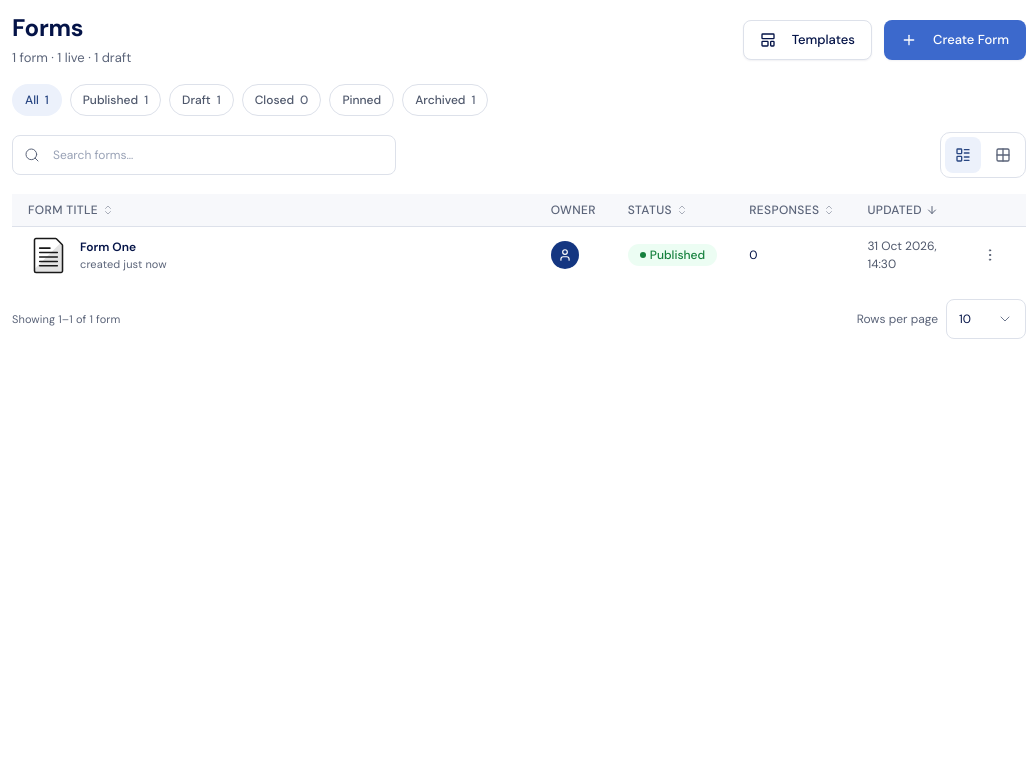
WorkspaceFormsPage — FormsPage rendered with workspace context › delete is gated by canDeleteForm(role) — owner only › role=owner: select column and row Delete action are present
Double-click the link "Form One" at (108, 247), box [80,238,136,256]
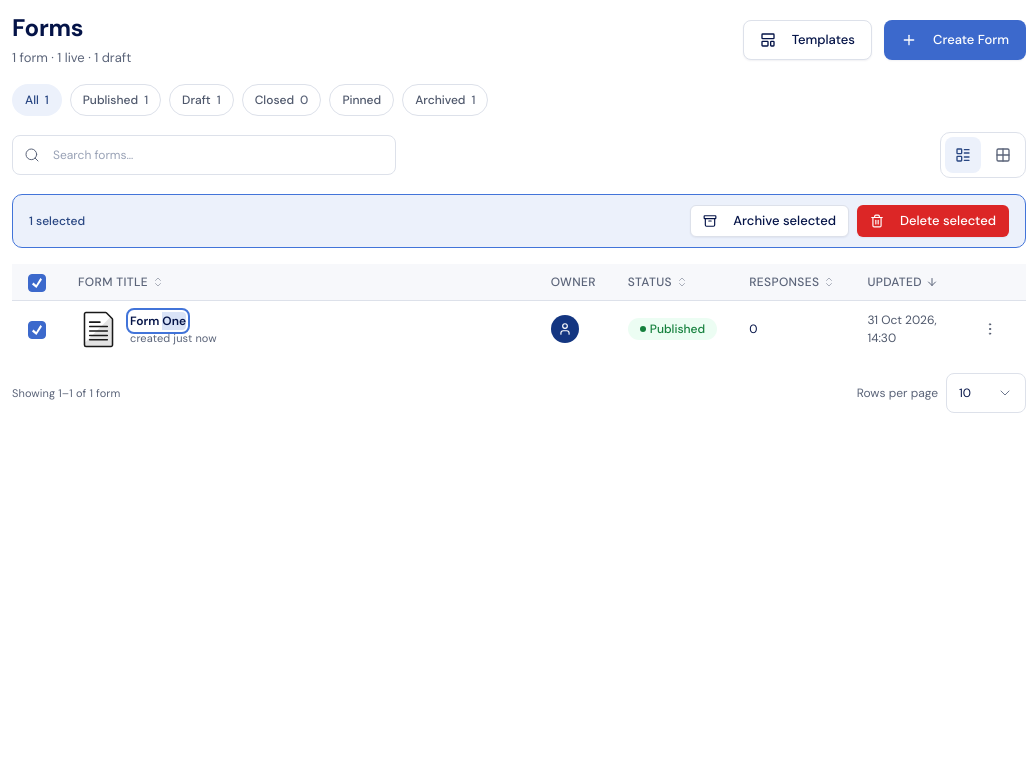
Result: the checkbox named "Select Form One" is shown at [28,321,46,339]
Click the button named "Actions for". click: (990, 329)
box: [970,309,1010,349]
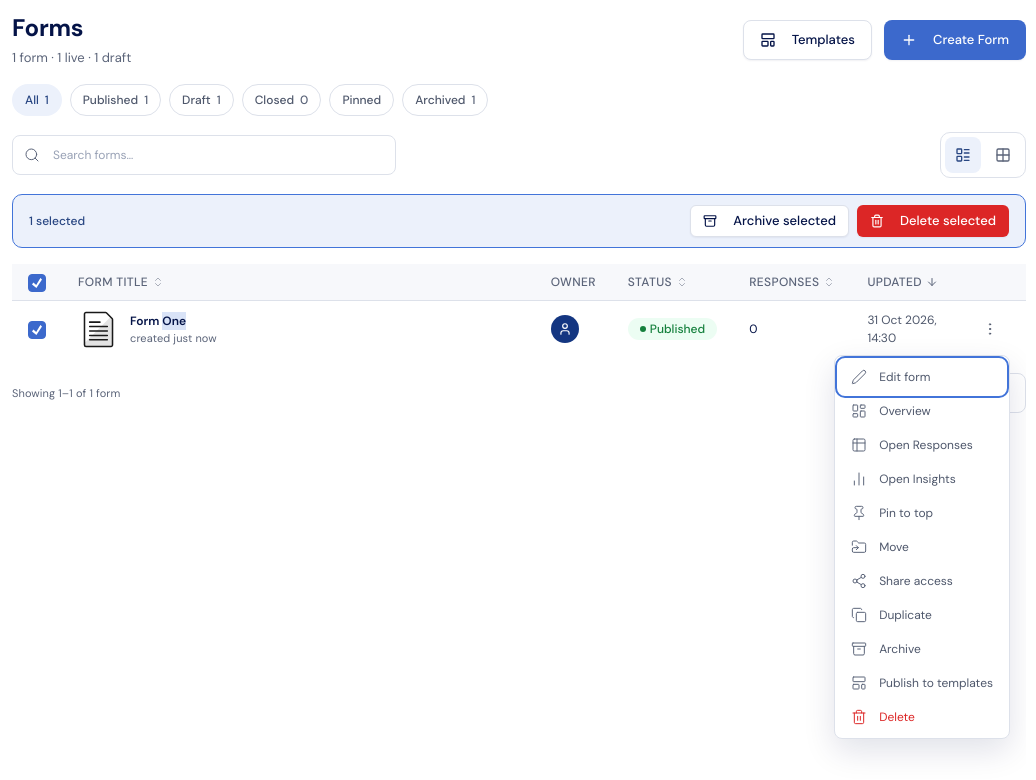
Result: the menu item "Delete" is shown at [839,700,1005,734]
